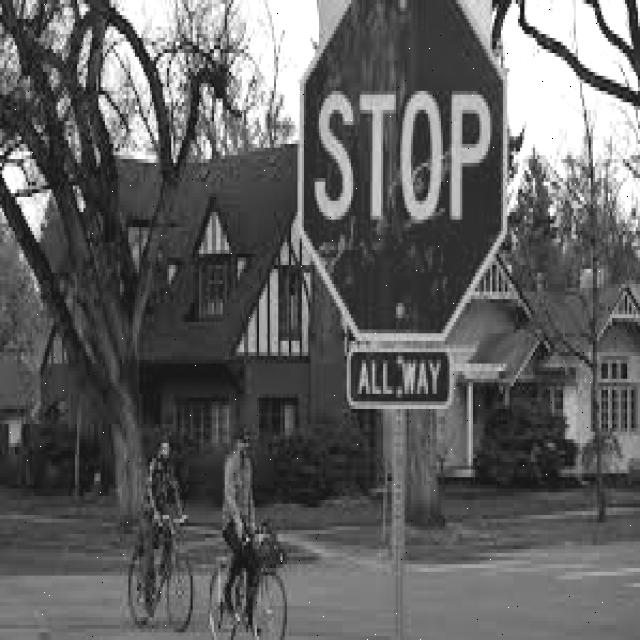stop sign: (300, 1, 504, 409)
